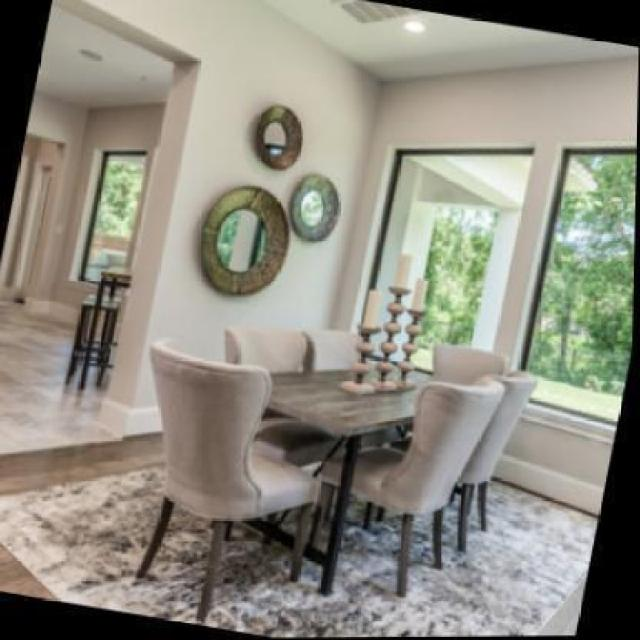tables: (258, 364, 436, 596)
